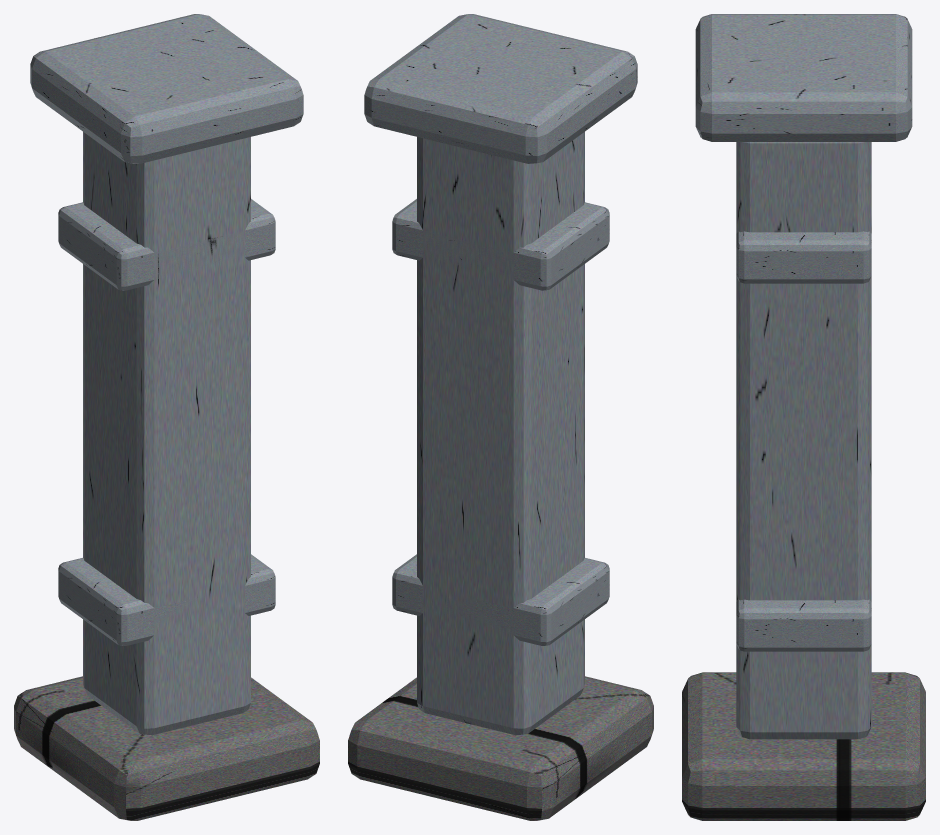
The model's file is pillar.glb.
3 views of the same model, side by side, from view 1: azimuth 30°, elevation 25°; view 2: azimuth 150°, elevation 25°; view 3: azimuth 270°, elevation 25° (orthographic). The views are drawn at different scales.
Visible parts, largest first — view 1: PillarWeb, PillarCap, PillarBase, PillarFlangeB, PillarFlangeA; view 2: PillarWeb, PillarCap, PillarBase, PillarFlangeB, PillarFlangeA; view 3: PillarWeb, PillarCap, PillarBase, PillarFlangeB, PillarFlangeA.
Part boxes in pixels (bbox=[...]): PillarWeb: bbox=[83, 132, 250, 735]; PillarCap: bbox=[30, 14, 303, 163]; PillarBase: bbox=[14, 676, 319, 820]; PillarFlangeB: bbox=[58, 199, 275, 290]; PillarFlangeA: bbox=[58, 554, 275, 645]; PillarWeb: bbox=[417, 132, 584, 735]; PillarCap: bbox=[364, 14, 637, 163]; PillarBase: bbox=[348, 676, 653, 820]; PillarFlangeB: bbox=[392, 199, 609, 290]; PillarFlangeA: bbox=[392, 554, 609, 645]; PillarWeb: bbox=[736, 142, 871, 739]; PillarCap: bbox=[695, 14, 912, 141]; PillarBase: bbox=[682, 672, 925, 820]; PillarFlangeB: bbox=[736, 231, 871, 283]; PillarFlangeA: bbox=[736, 599, 871, 651].
Size of the model in its own units: 1.8 by 5.9 by 1.8.
Materials: 2 (2 with a texture image).
